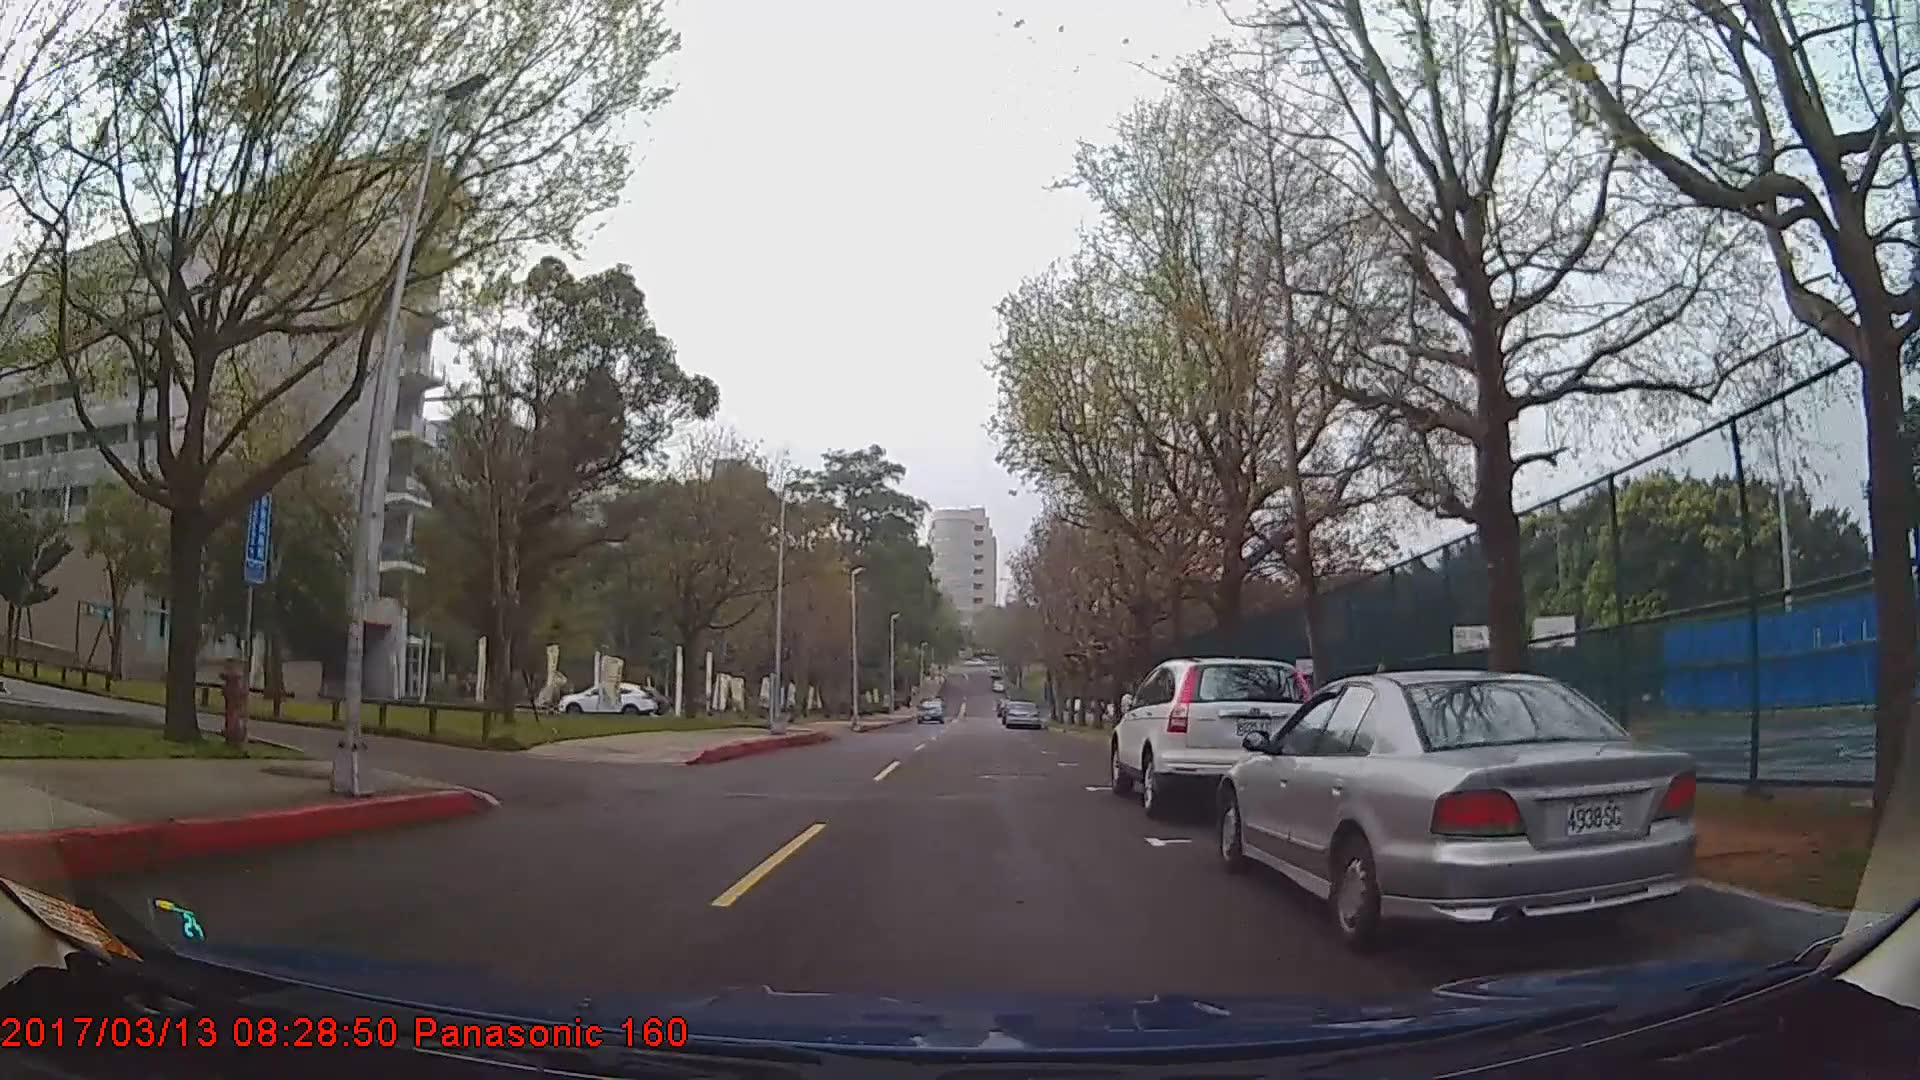vehicle: (1218, 669, 1698, 945), (1106, 659, 1323, 815), (560, 679, 658, 717), (1001, 698, 1040, 731), (915, 694, 943, 723)
